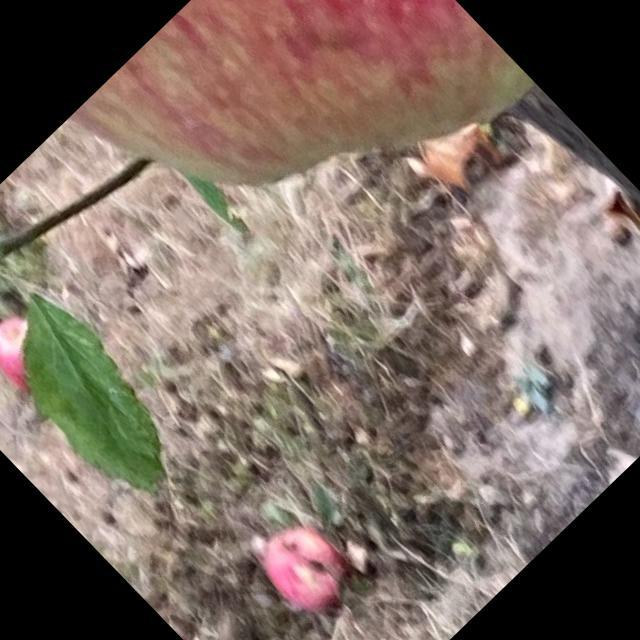100-_ripeness: (69, 0, 539, 336), (250, 512, 360, 624), (0, 310, 64, 396)
